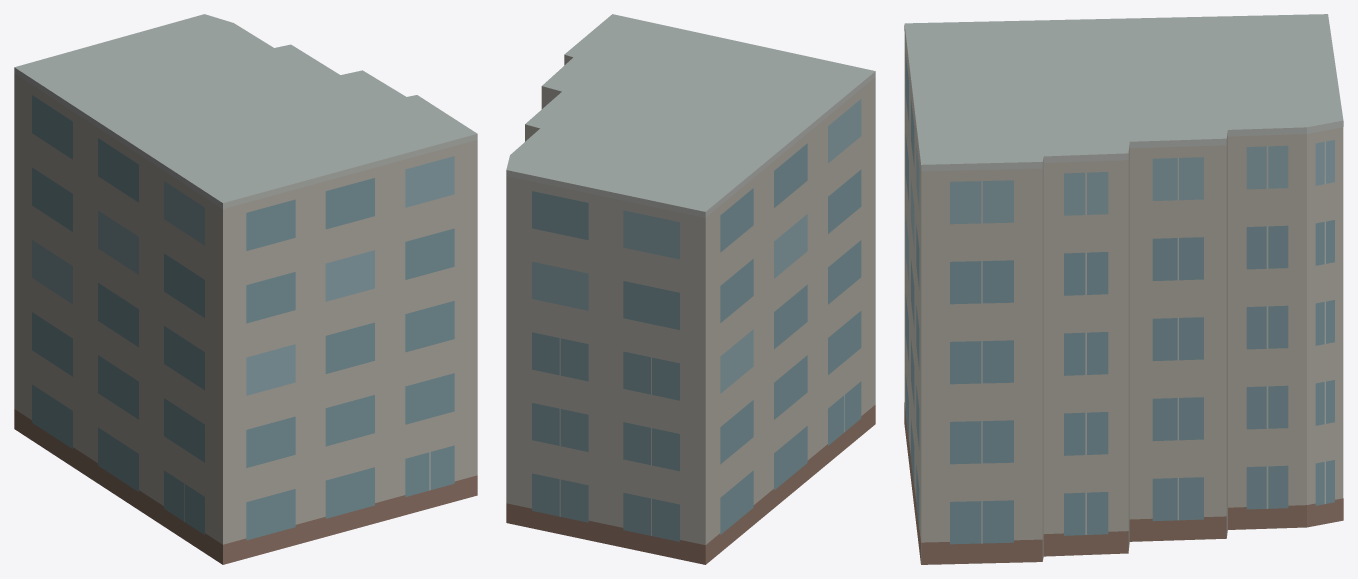
Rendered from survey-upis-32631299.glb.
3 views of the same model, side by side, from view 1: azimuth 30°, elevation 25°; view 2: azimuth 150°, elevation 25°; view 3: azimuth 270°, elevation 25° (orthographic). The views are drawn at different scales.
Parts seen in each view (by area): view 1: survey-upis-32631299.tmp; view 2: survey-upis-32631299.tmp; view 3: survey-upis-32631299.tmp.
Boxes of the visible parts, <box> form: survey-upis-32631299.tmp: <box>14,14,477,564</box>; survey-upis-32631299.tmp: <box>506,14,875,564</box>; survey-upis-32631299.tmp: <box>904,14,1343,564</box>.
Bounding box in the file's own units: 11.89 × 14.7 × 14.63.
